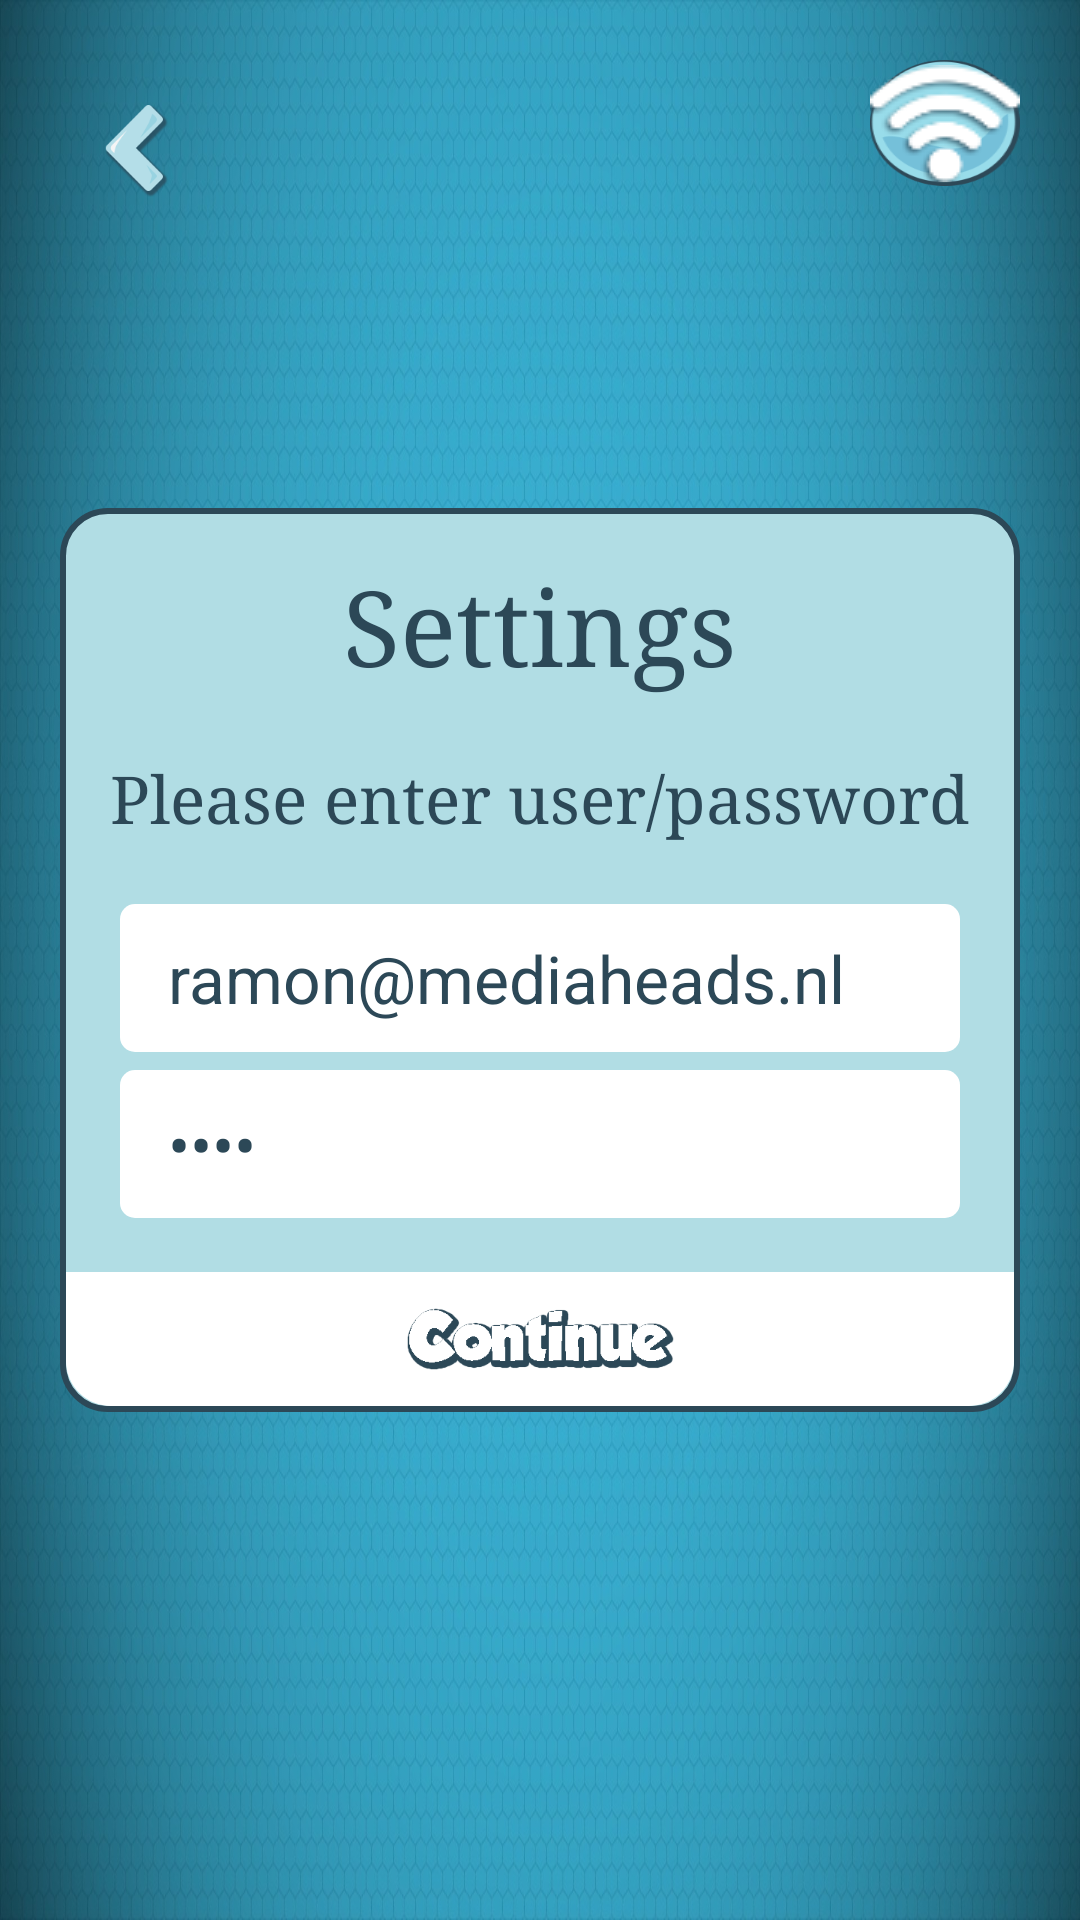

Point at icon controls on the screen. Image size 1080px x 1920px, points as (x=x, y=y).
wifi: (x=945, y=123)
